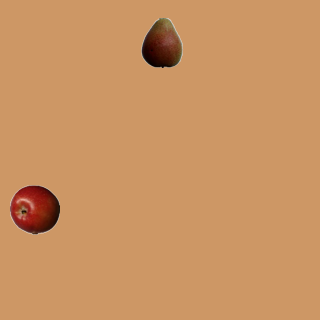Apple Braeburn: (9, 184, 59, 234)
Pear Forelle: (136, 17, 186, 67)
